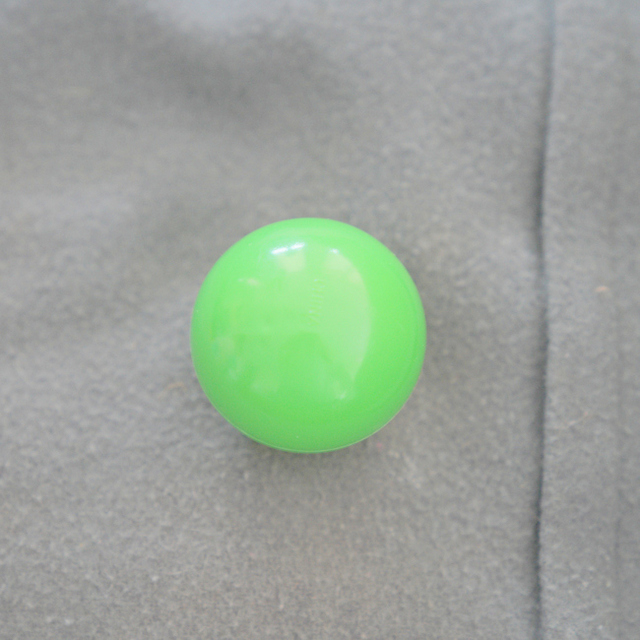Ball: (191, 216, 426, 452)
